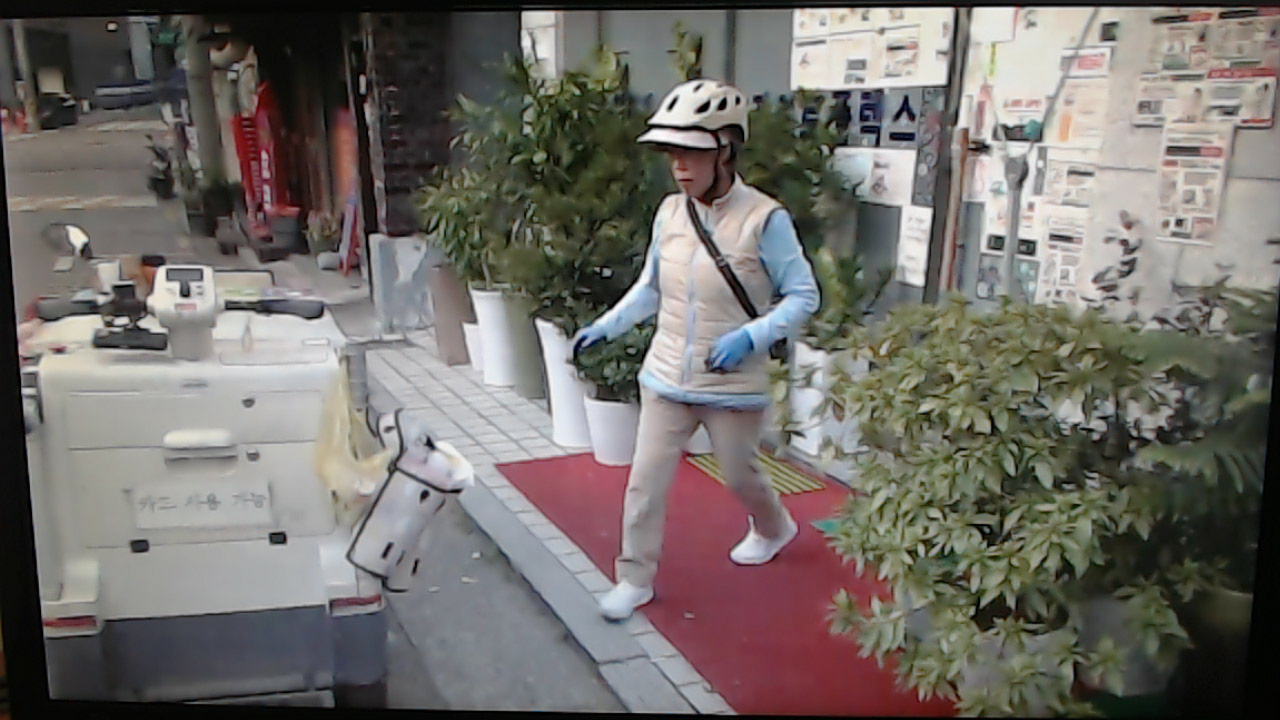Yakurut: (567, 72, 840, 633)
